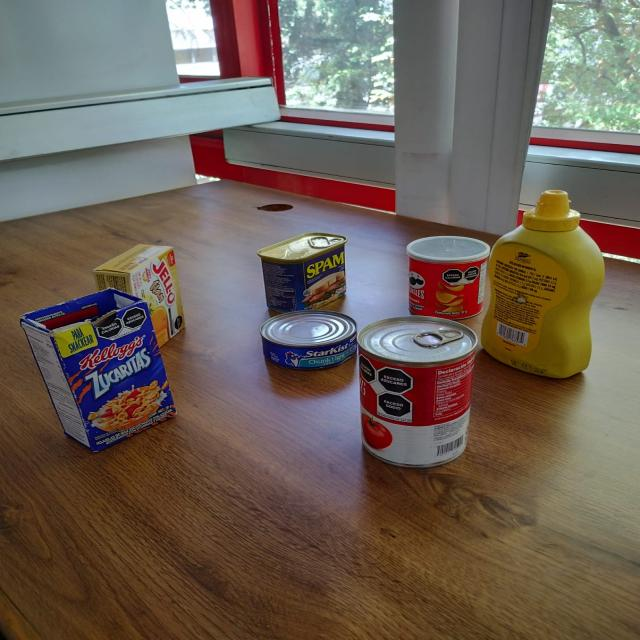can of cream: (356, 316, 472, 467)
can of tuna: (259, 309, 358, 369)
cereal: (20, 289, 176, 453)
chips: (403, 238, 485, 321)
jelly: (92, 244, 183, 343)
mustard: (480, 192, 601, 374)
spam: (256, 232, 347, 312)
